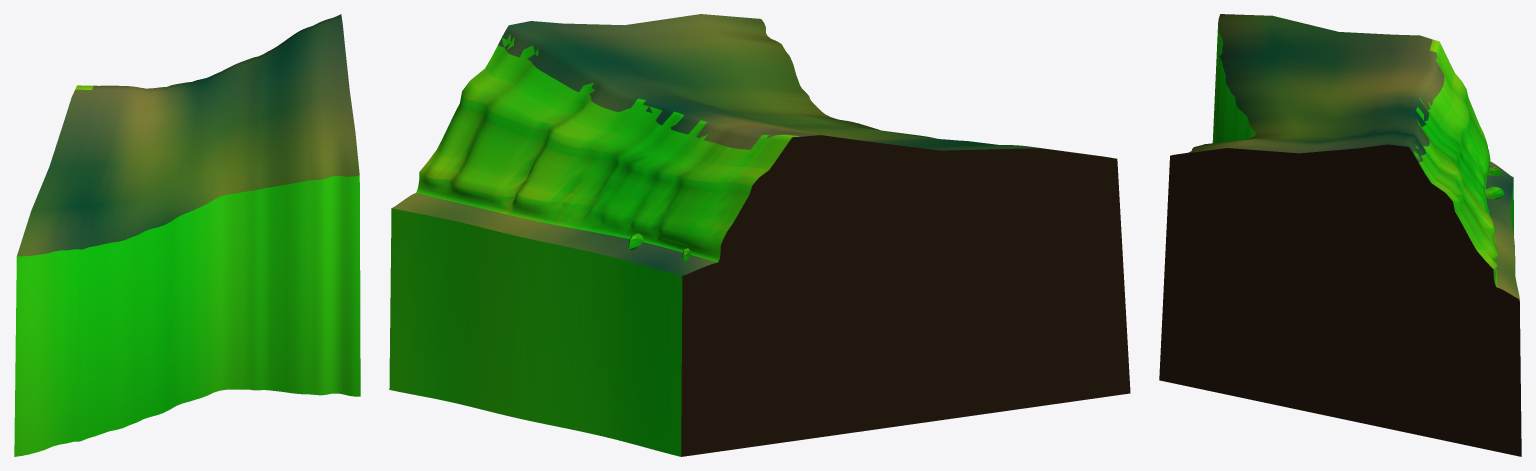
Rendered from SM_ForestRisingCliffs_04.fbx.
The picture shows the model from 3 angles, left to right: view 1: azimuth 30°, elevation 25°; view 2: azimuth 150°, elevation 25°; view 3: azimuth 270°, elevation 25°; orthographic projection. The views are drawn at different scales.
Parts seen in each view (by area): view 1: SM_ForestRisingCliffs_04; view 2: SM_ForestRisingCliffs_04; view 3: SM_ForestRisingCliffs_04.
Part boxes in pixels (x1=…): SM_ForestRisingCliffs_04: x1=14, y1=14, x2=360, y2=456; SM_ForestRisingCliffs_04: x1=389, y1=14, x2=1130, y2=456; SM_ForestRisingCliffs_04: x1=1159, y1=14, x2=1521, y2=456.
Size of the model in its own units: 79.97 by 51.36 by 44.87.
